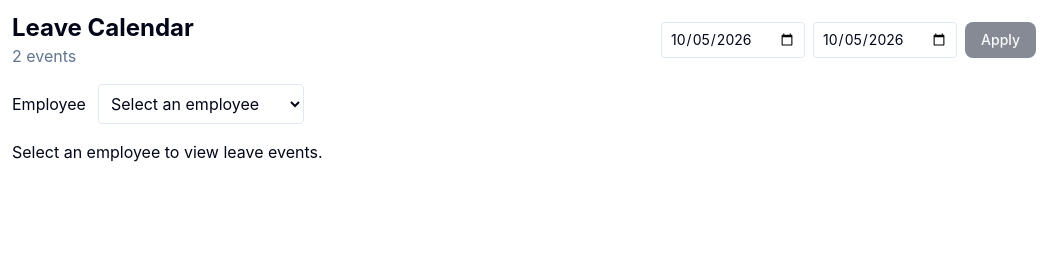
Test: LeaveCalendarPage › renders events with correct colors from API
Step 1. Select "EMP1 - Test Employee" in the dropdown with id "leave-calendar-employee" → (201, 104), box [98,84,304,124]
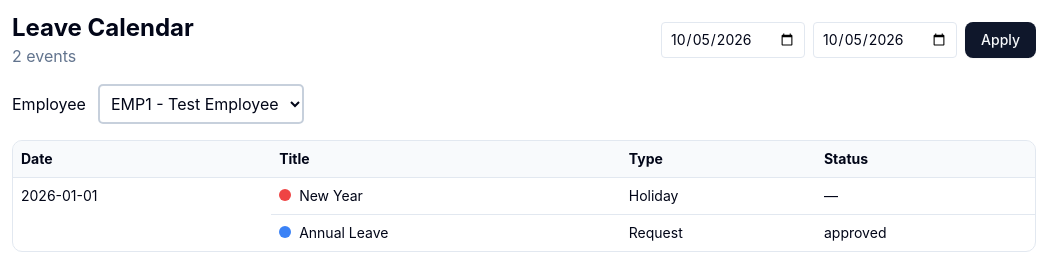
Now the text "New Year" is shown, box [271,178,621,214]
Now the text "Annual Leave" is shown, box [271,214,621,251]
